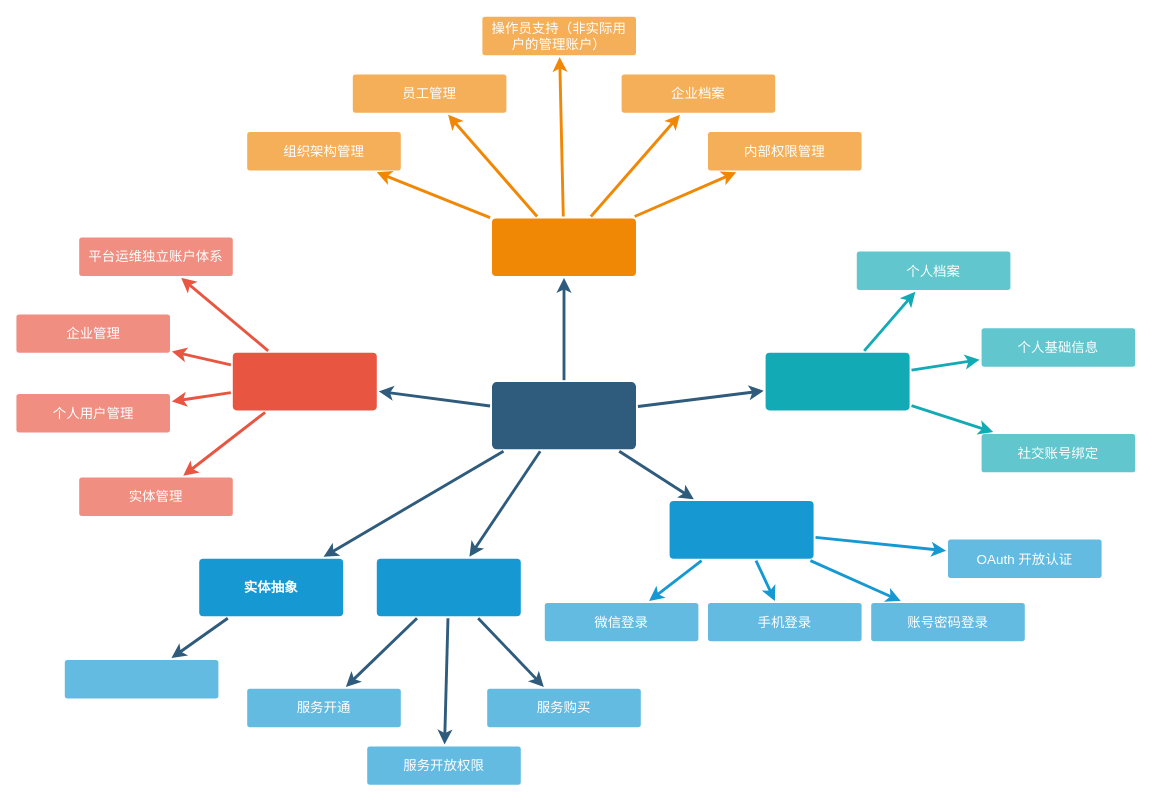
The diagram is 1152 pixels wide and 801 high, and some of its shapes have lost their labels. Each missing label, with the centre of its shape:
"个人功能" goes at pixel 837 381.
"企业功能" goes at pixel 564 247.
"实体档案" goes at pixel 141 679.
"服务管理" goes at pixel 448 587.
"管理功能" goes at pixel 304 381.
"统一认证" goes at pixel 741 529.
"账户体系" goes at pixel 564 415.
